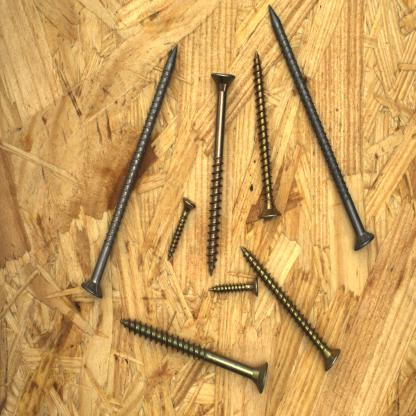screw: (266, 1, 378, 254), (80, 39, 181, 302), (239, 242, 343, 374), (116, 314, 272, 397), (204, 66, 240, 280), (250, 49, 284, 222), (166, 194, 198, 264), (204, 276, 264, 299)
